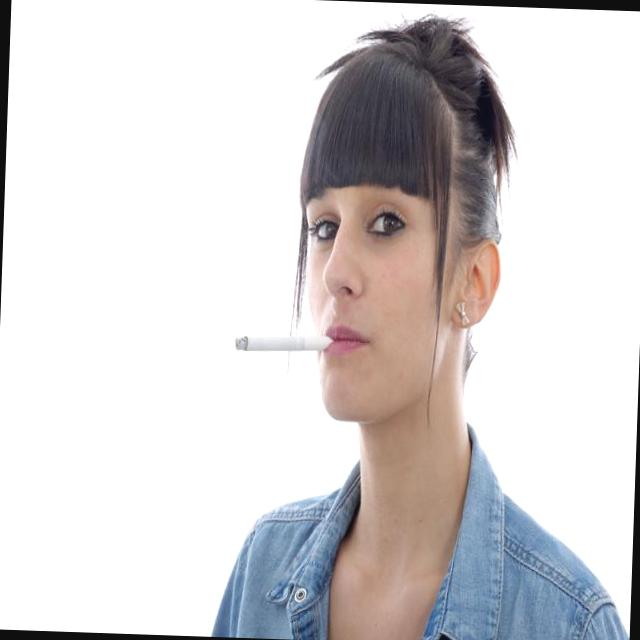cigarette: (229, 328, 339, 364)
